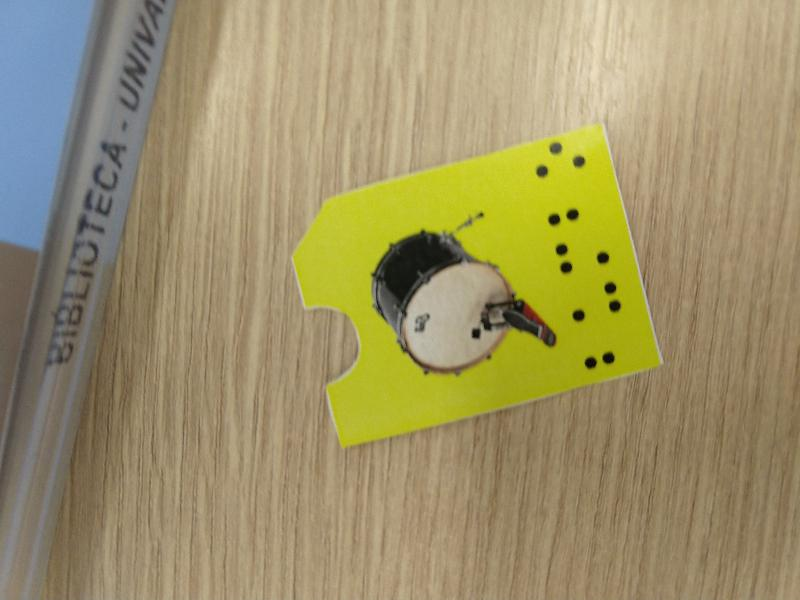bumbo: (290, 116, 670, 451)
